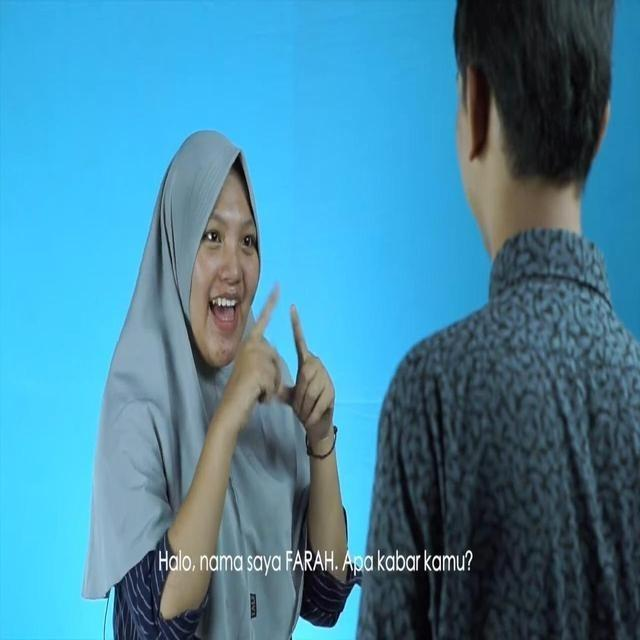A: (222, 279, 342, 440)
